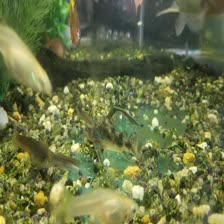Kiros: (76, 112, 146, 156)
